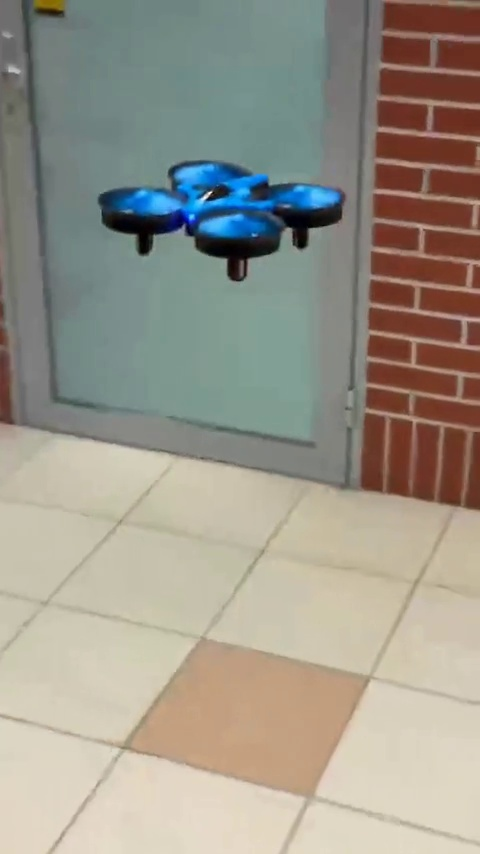drone: (93, 157, 345, 282)
